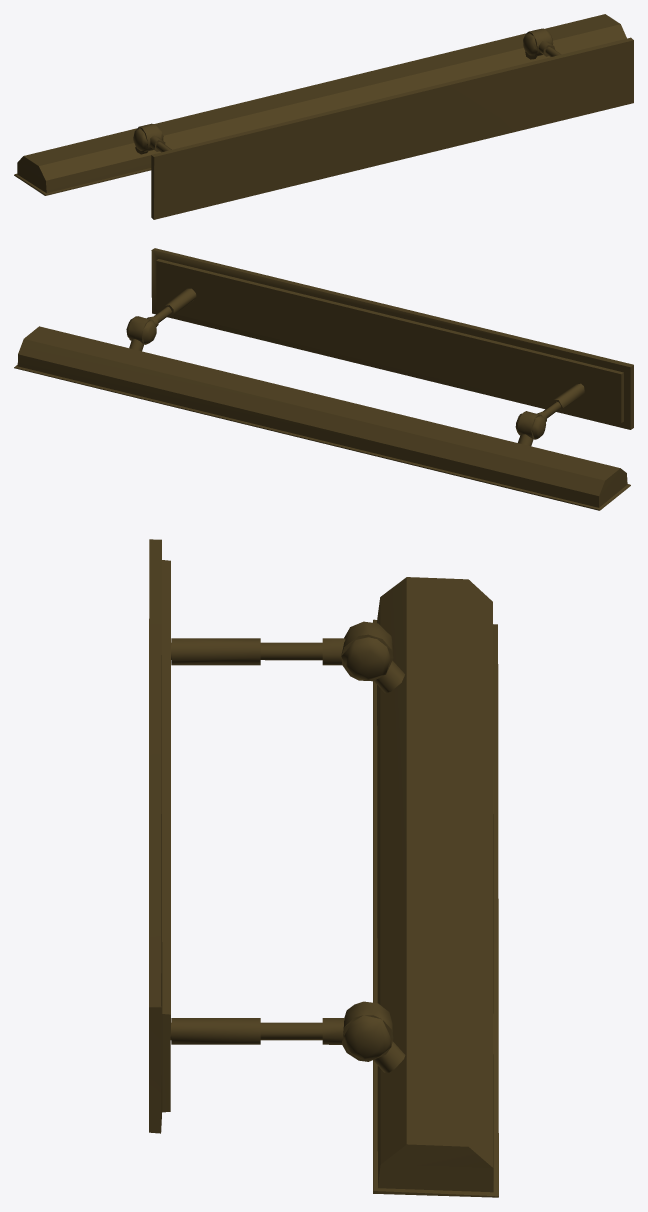
Rendered from Wall lamp.FBX.
3 views of the same model, one above another, from view 1: azimuth 30°, elevation 25°; view 2: azimuth 150°, elevation 25°; view 3: azimuth 270°, elevation 25° (orthographic). The views are drawn at different scales.
Parts seen in each view (by area): view 1: wall lamp; view 2: wall lamp; view 3: wall lamp.
Part boxes in pixels (x1,y1,x2,y2): wall lamp: [14, 14, 633, 219]; wall lamp: [14, 248, 633, 510]; wall lamp: [149, 539, 498, 1197].
Bounding box in the file's own units: 86.59 × 9.88 × 22.4.
